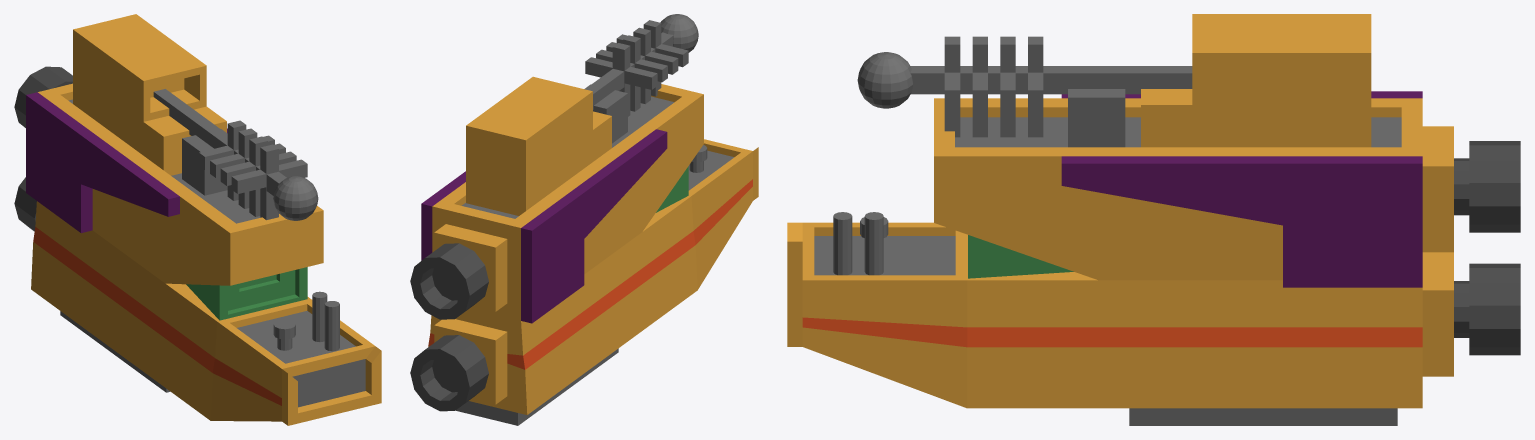
Rendered from alien2.fbx.
3 views of the same model, side by side, from view 1: azimuth 30°, elevation 25°; view 2: azimuth 150°, elevation 25°; view 3: azimuth 270°, elevation 25° (orthographic). The views are drawn at different scales.
Visible parts, largest first — view 1: Alien2; view 2: Alien2; view 3: Alien2.
Boxes of the visible parts, x1,y1,x2,y2 form: Alien2: [14, 14, 381, 425]; Alien2: [410, 14, 758, 425]; Alien2: [787, 14, 1520, 425].
Bounding box in the file's own units: 5.98 × 14.33 × 25.64.
